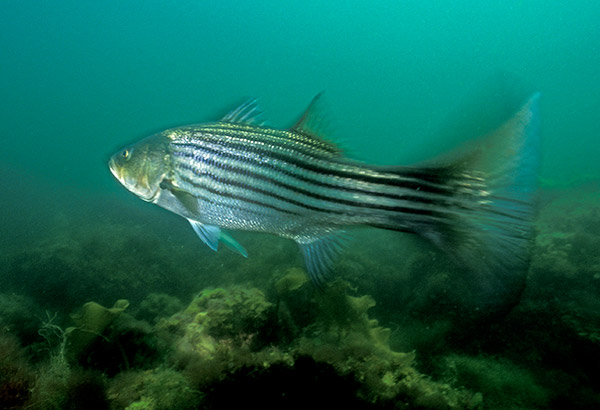Striped Bass: (100, 99, 535, 290)
